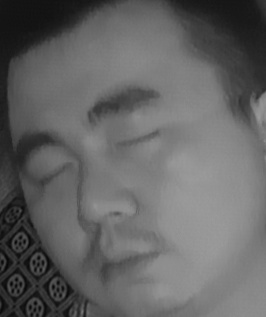blink: (109, 120, 163, 160), (31, 156, 74, 191)
mouth: (86, 233, 164, 286)
